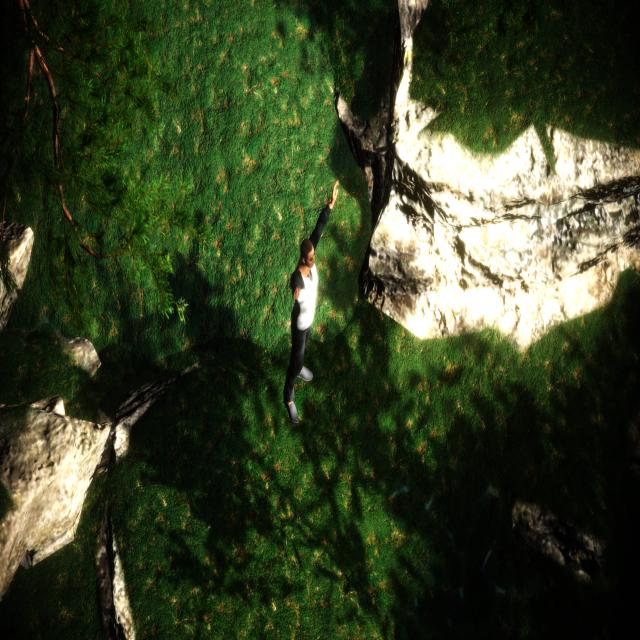Human: (280, 179, 339, 436)
